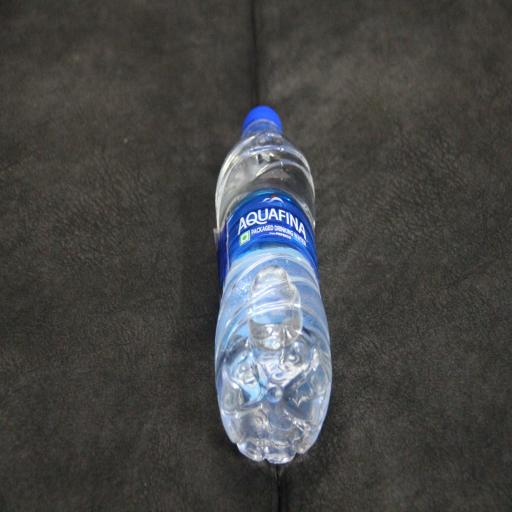Aquafina: (214, 106, 332, 465)
